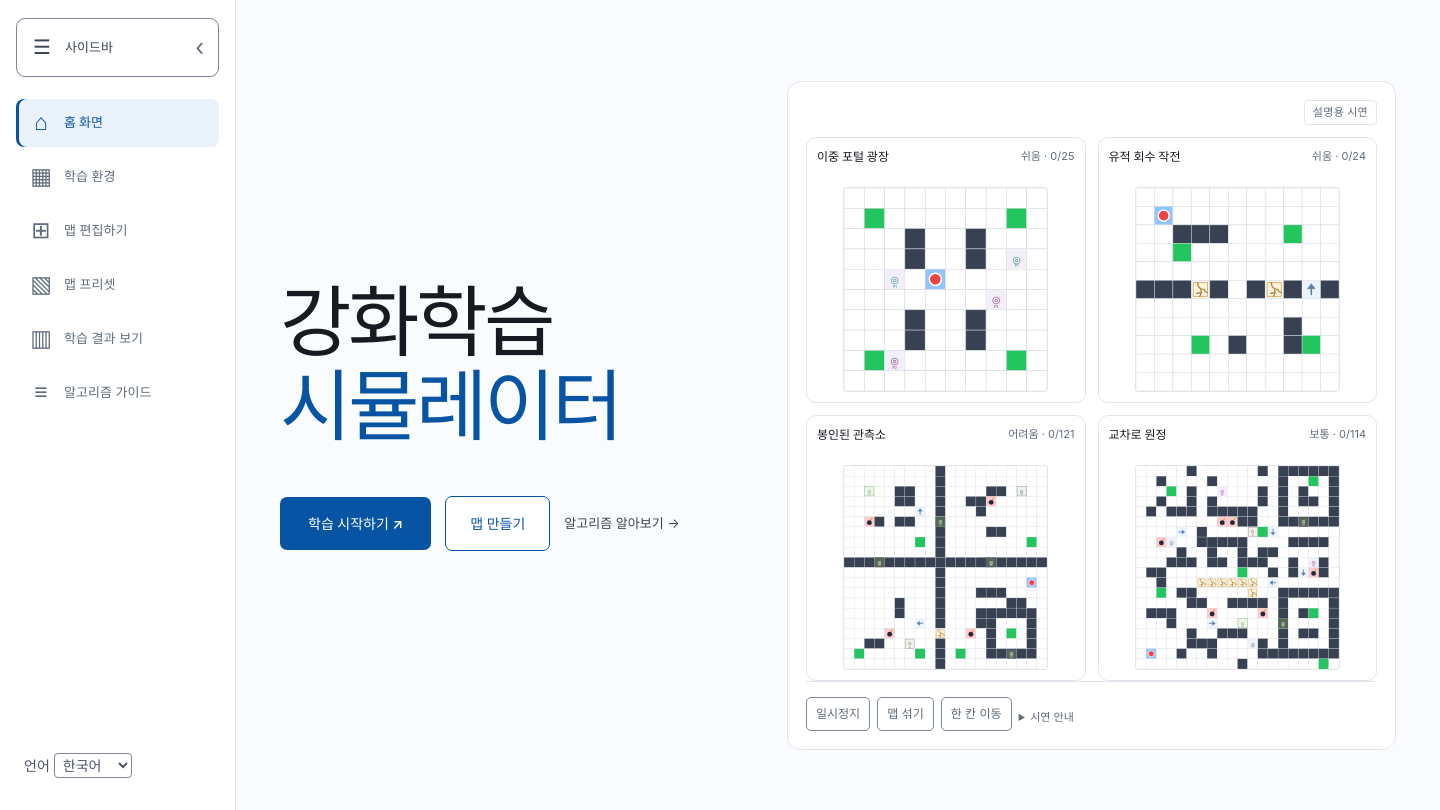
Test: training-complete toast › shows English copy when the language is English
Click the button with test id "nav-environment".
click(118, 176)  # box [16,152,219,200]
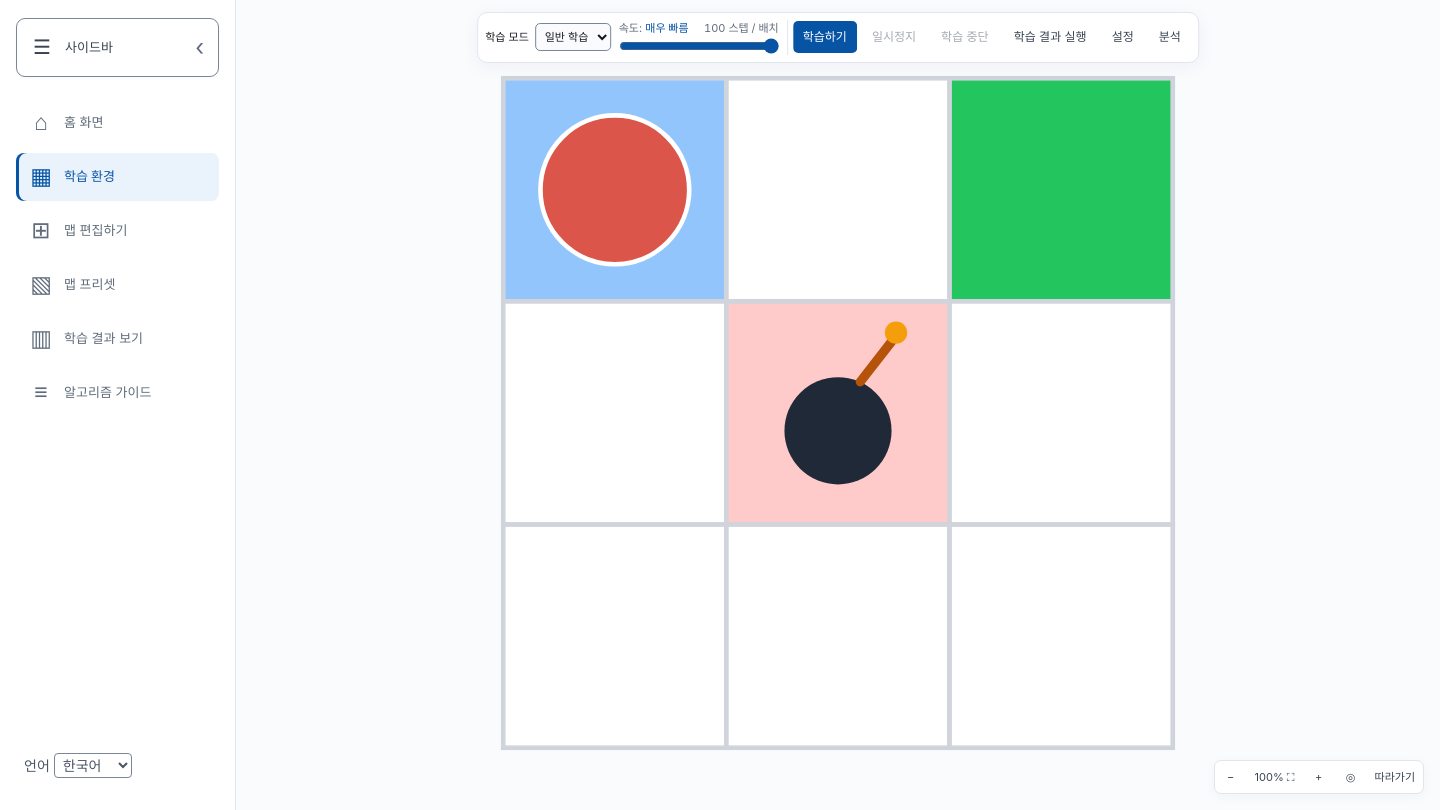
Select "English" in the dropdown with test id "language-selector" at (93, 766), box [54,753,132,778]
Wait 4000 ms
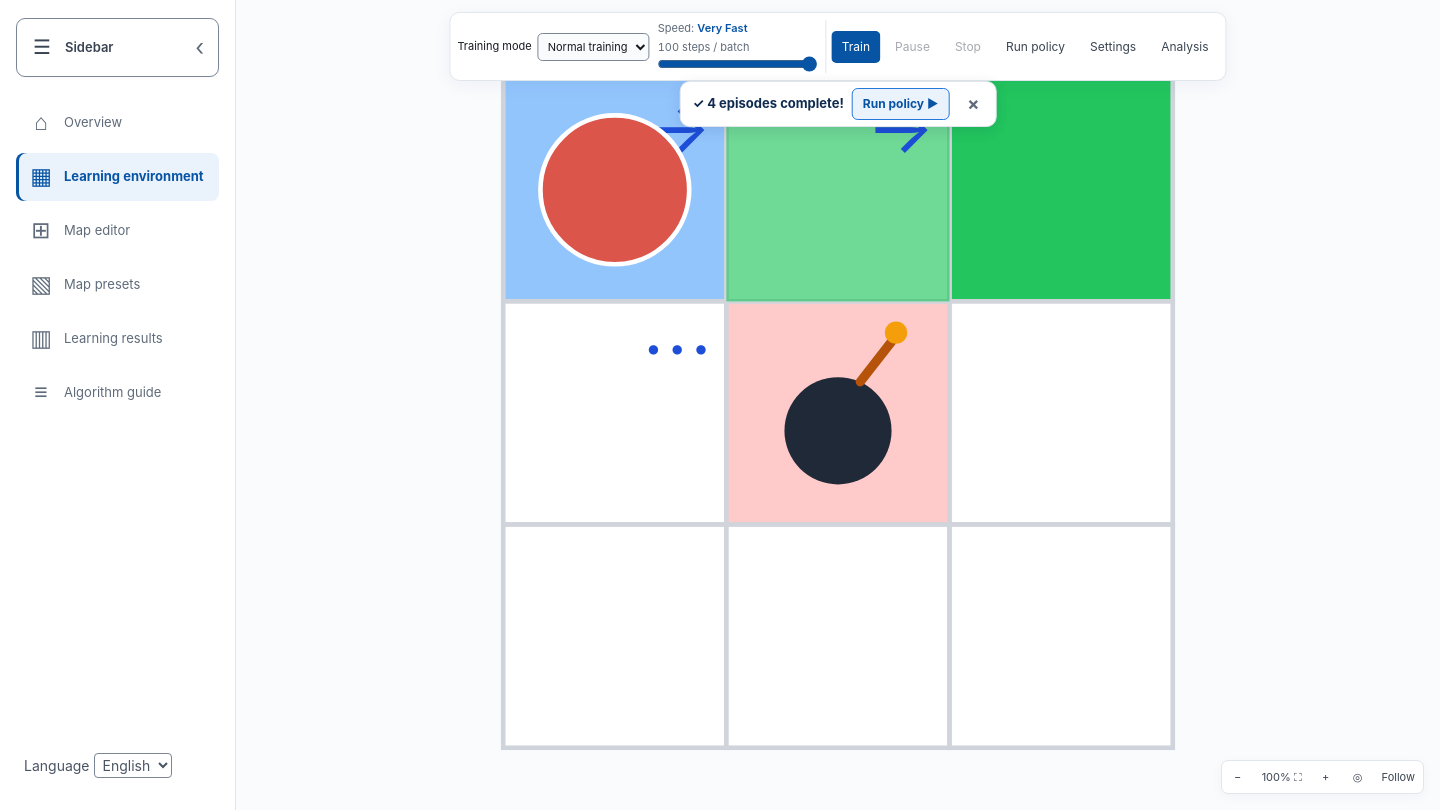
Check: the text with test id "completion-message" reads "4 episodes complete!", box [707,95,844,111]
Check: the button with test id "completion-run-policy" shows "Run policy", box [852,88,949,120]
